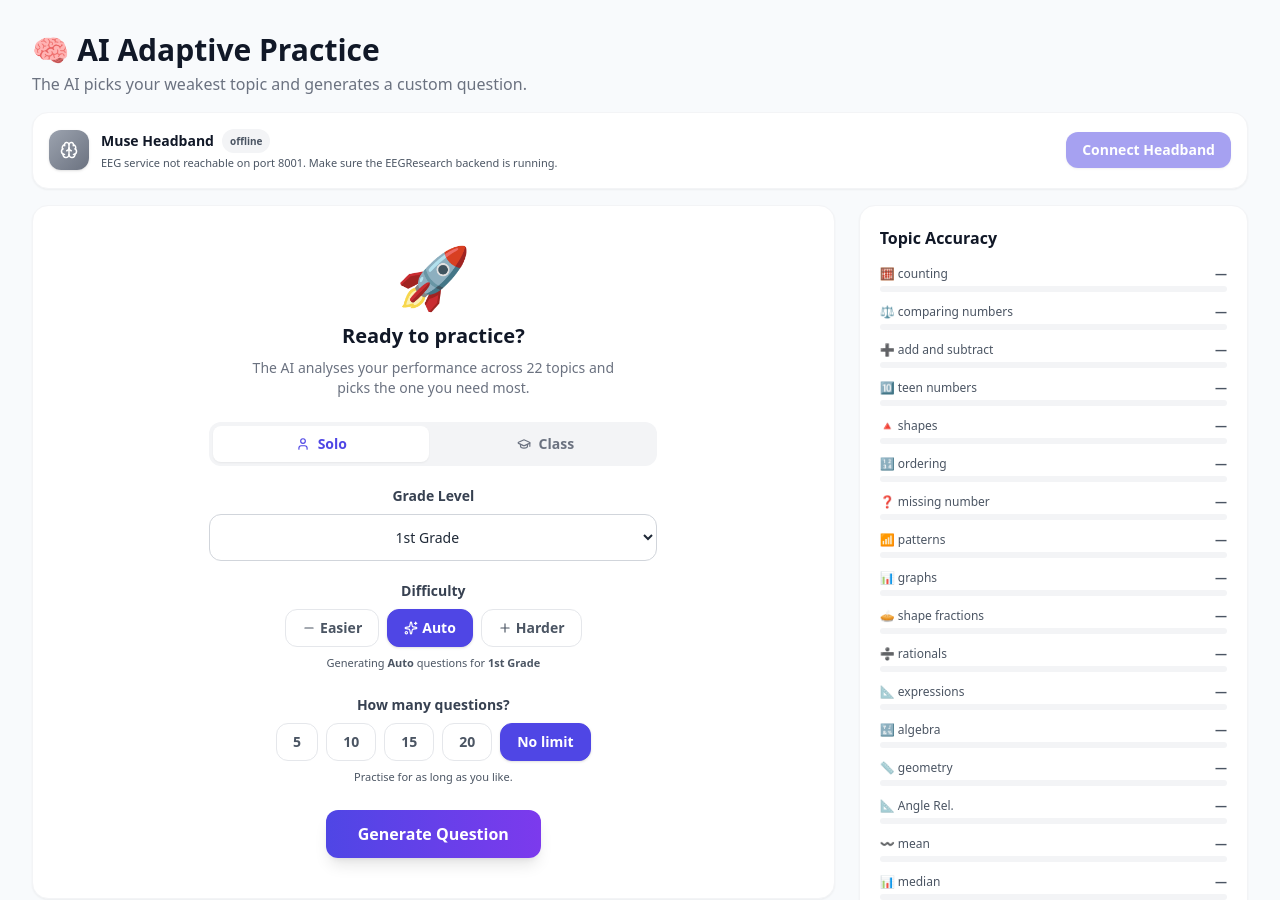
logs what came back when a generation answers 200 with no question
The width and height of the screenshot is (1280, 900).
Click the button "Generate Question" at (433, 834), box [326,810,541,858]
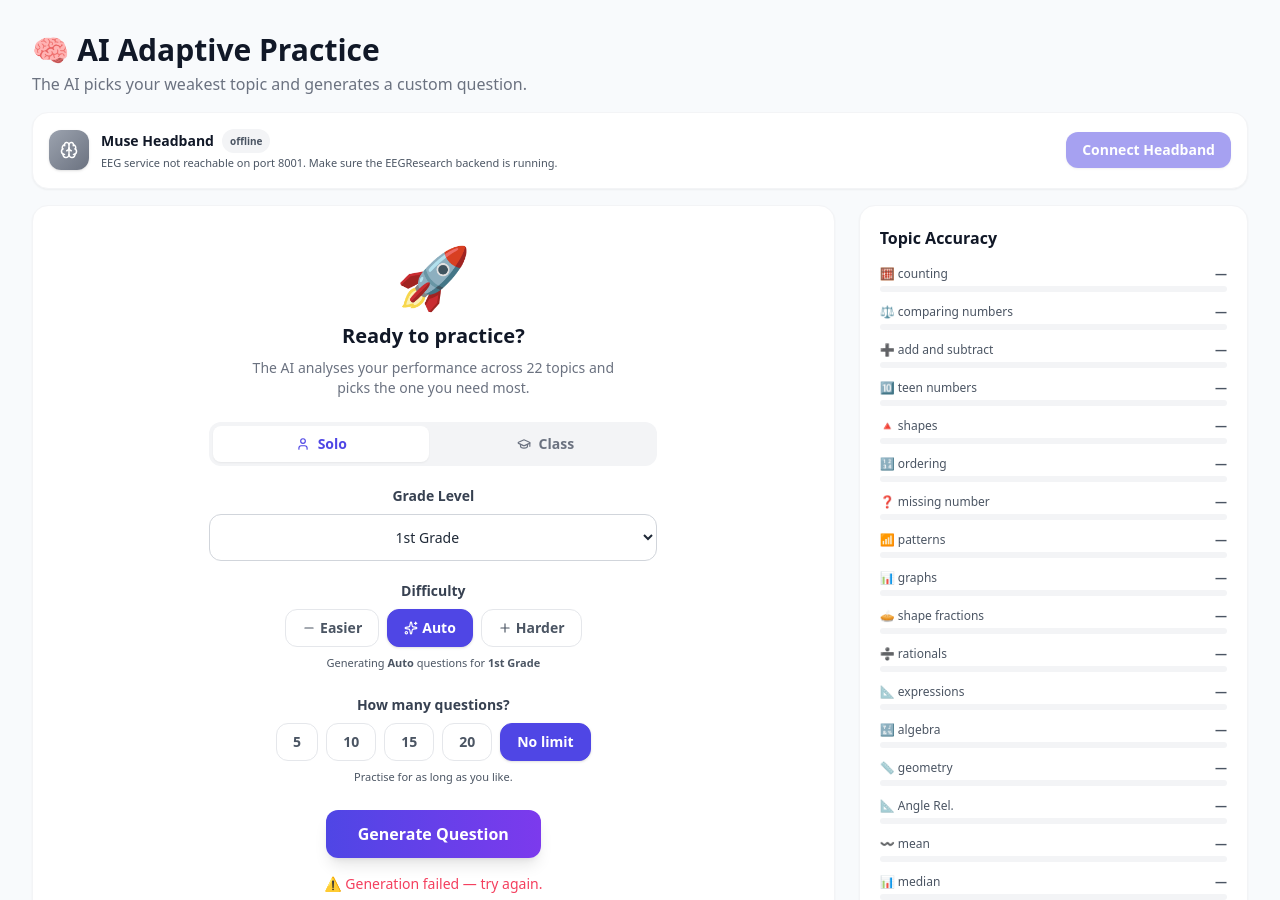
Expected: the text "⚠️ Generation failed — try again." is shown, [324,874,542,892]
